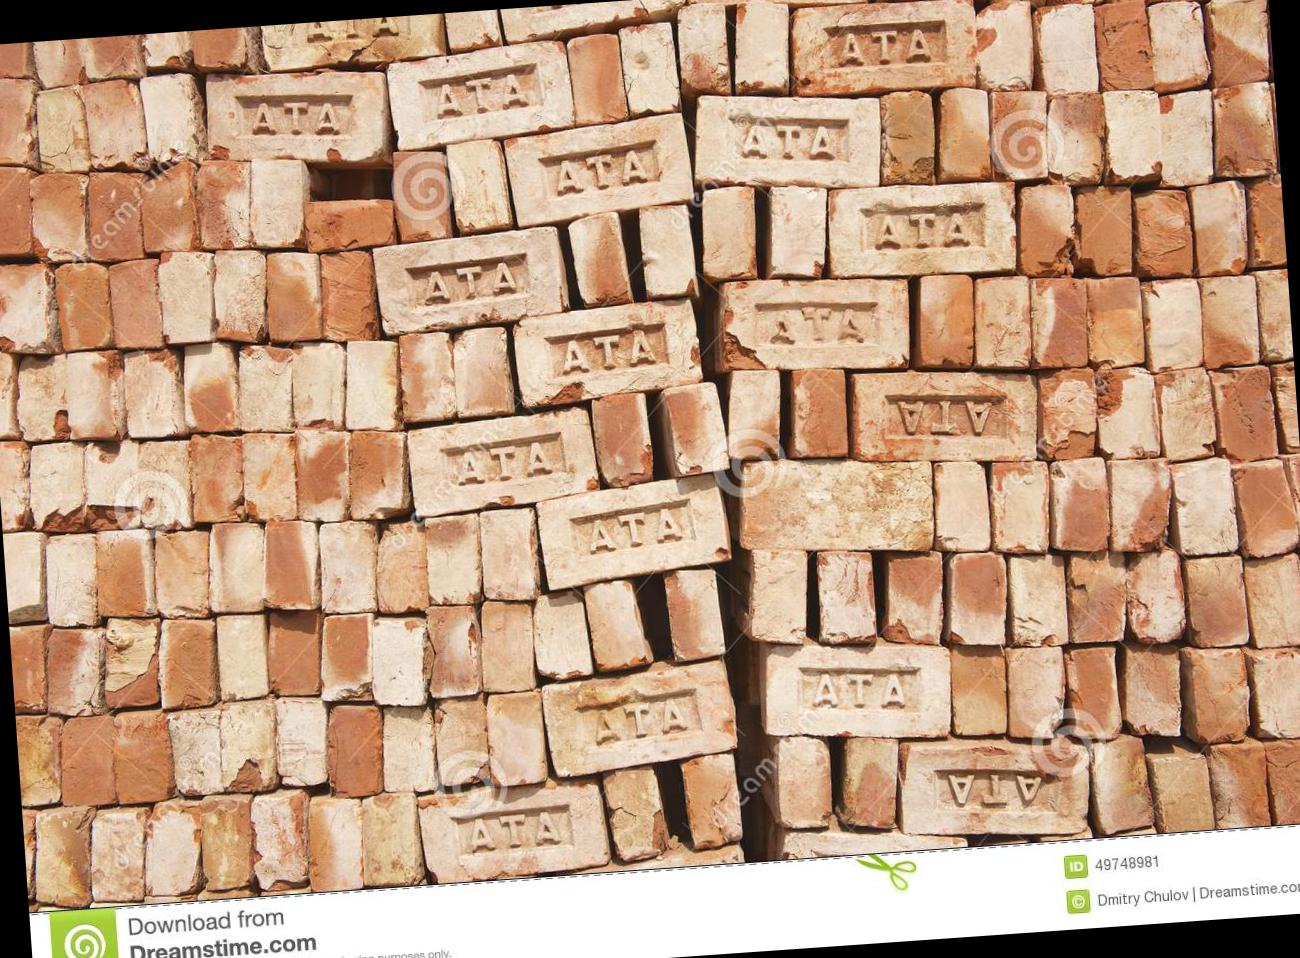brick: (540, 656, 740, 778), (735, 448, 937, 563), (535, 473, 733, 591), (689, 84, 884, 199), (760, 635, 956, 749), (712, 269, 912, 380), (503, 112, 695, 226), (406, 406, 601, 518), (897, 735, 1093, 845), (850, 361, 1042, 473), (371, 225, 563, 336), (386, 39, 575, 151), (512, 298, 702, 408), (417, 777, 611, 884), (826, 178, 1020, 282), (203, 63, 391, 170), (788, 0, 979, 99), (259, 13, 446, 72), (30, 809, 101, 909), (1231, 460, 1300, 559), (1104, 458, 1176, 552), (878, 550, 947, 648), (942, 550, 1010, 647), (358, 790, 426, 888), (835, 736, 903, 832), (662, 381, 730, 477), (1210, 365, 1278, 462), (1045, 457, 1112, 554), (1171, 458, 1238, 555), (368, 614, 435, 712), (747, 546, 813, 645), (583, 578, 652, 672), (567, 211, 633, 309), (1003, 644, 1071, 739), (291, 426, 355, 525), (1210, 82, 1276, 179), (987, 458, 1053, 555), (27, 171, 95, 264), (1031, 2, 1098, 96), (1044, 90, 1108, 188), (766, 184, 832, 280), (969, 275, 1035, 370), (338, 338, 404, 434), (140, 801, 206, 896), (1034, 366, 1100, 460), (346, 427, 413, 521), (1064, 550, 1130, 644), (603, 767, 669, 861), (875, 90, 939, 188), (1091, 738, 1155, 836), (1094, 366, 1160, 461), (1152, 366, 1217, 461), (87, 808, 152, 902), (317, 519, 382, 615), (730, 0, 794, 96), (1102, 88, 1165, 187), (1124, 545, 1187, 644), (204, 520, 269, 614), (445, 138, 510, 233), (814, 548, 876, 646), (25, 442, 91, 535), (99, 615, 165, 708), (1147, 0, 1212, 93), (914, 273, 977, 369), (259, 519, 324, 613), (1122, 642, 1185, 739), (1140, 278, 1203, 372), (1197, 275, 1261, 369), (287, 339, 350, 434), (478, 508, 542, 603), (1005, 553, 1069, 648), (422, 604, 485, 699), (679, 754, 743, 849), (154, 617, 220, 709), (1083, 274, 1146, 369), (484, 690, 547, 786), (192, 156, 255, 250), (619, 22, 680, 119), (1190, 647, 1252, 744), (697, 186, 760, 281), (1015, 183, 1078, 278), (157, 249, 220, 344), (1157, 90, 1217, 188), (210, 247, 270, 345), (1189, 180, 1250, 278), (786, 367, 850, 460), (249, 796, 313, 889), (325, 703, 387, 799), (304, 796, 365, 892), (988, 88, 1051, 182), (722, 368, 784, 462), (239, 429, 302, 523), (109, 713, 174, 804), (663, 567, 725, 662), (218, 699, 280, 793), (1186, 556, 1250, 648), (56, 715, 119, 807), (1092, 0, 1156, 92), (1074, 184, 1136, 277), (152, 528, 215, 621), (591, 393, 652, 489), (94, 528, 157, 619), (316, 613, 380, 704), (85, 170, 147, 261), (931, 459, 991, 554), (477, 599, 538, 694), (972, 0, 1034, 93), (934, 86, 993, 182), (263, 250, 325, 342), (531, 590, 592, 681), (83, 437, 142, 532), (42, 533, 102, 628), (137, 161, 198, 253), (424, 513, 484, 606), (949, 644, 1009, 737), (450, 327, 513, 417), (234, 344, 297, 434), (1064, 646, 1122, 742), (638, 203, 697, 297), (320, 249, 380, 343), (187, 430, 246, 524), (774, 735, 834, 829), (180, 341, 240, 433), (0, 261, 59, 356), (1206, 744, 1271, 830), (391, 148, 450, 241), (1028, 276, 1088, 368), (42, 627, 103, 718), (566, 32, 627, 123), (303, 196, 397, 254), (247, 156, 307, 248), (399, 331, 458, 423), (372, 520, 430, 615), (199, 796, 256, 891), (433, 695, 492, 787), (264, 610, 327, 697), (1208, 0, 1271, 87), (1244, 552, 1300, 649), (84, 79, 143, 169), (64, 349, 121, 442), (136, 439, 194, 532), (1134, 188, 1193, 279), (53, 260, 112, 350), (274, 695, 330, 787), (378, 705, 438, 792), (676, 1, 731, 97), (139, 73, 197, 163), (108, 259, 164, 352), (121, 347, 177, 439), (13, 352, 70, 441), (168, 708, 224, 795), (215, 613, 270, 702), (1152, 755, 1214, 834), (34, 86, 89, 174), (1250, 646, 1300, 740), (15, 714, 64, 806), (2, 531, 49, 624), (1253, 268, 1293, 361), (1247, 175, 1287, 267), (9, 626, 50, 715), (0, 163, 35, 258), (1264, 732, 1300, 825), (0, 76, 38, 164), (0, 440, 34, 533)
